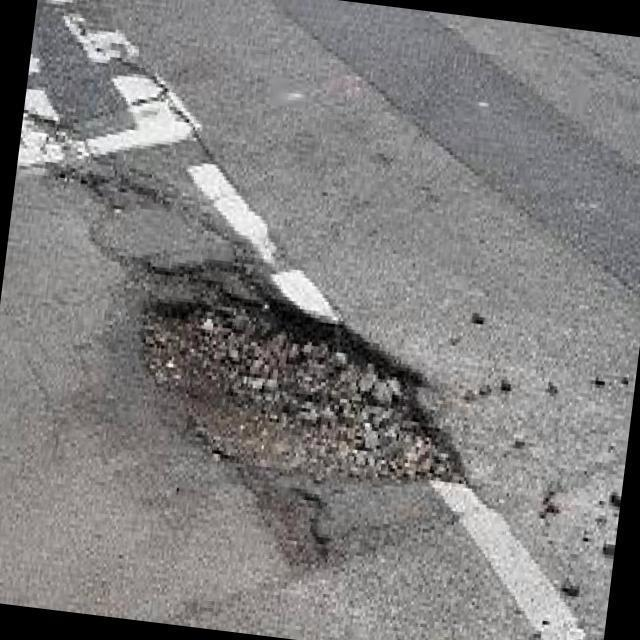pothole: (140, 265, 448, 553)
